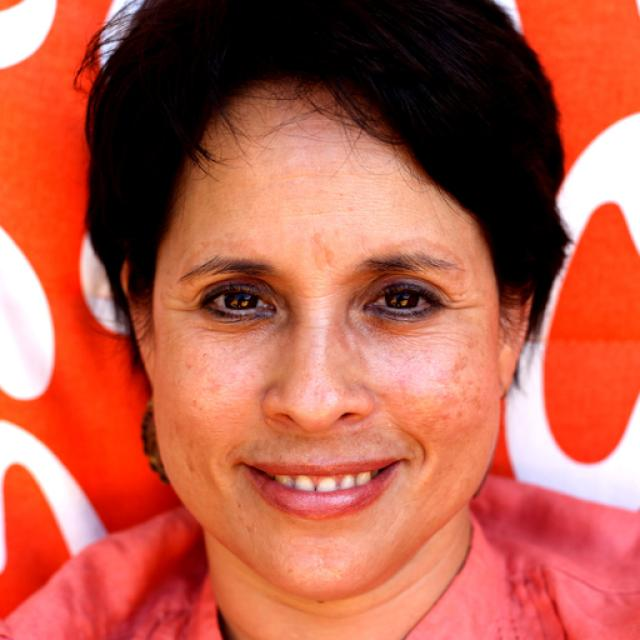Pigmentation: (389, 356, 500, 440)
